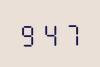four: (40, 20, 60, 46)
nine: (18, 20, 38, 47)
seven: (61, 19, 81, 46)
